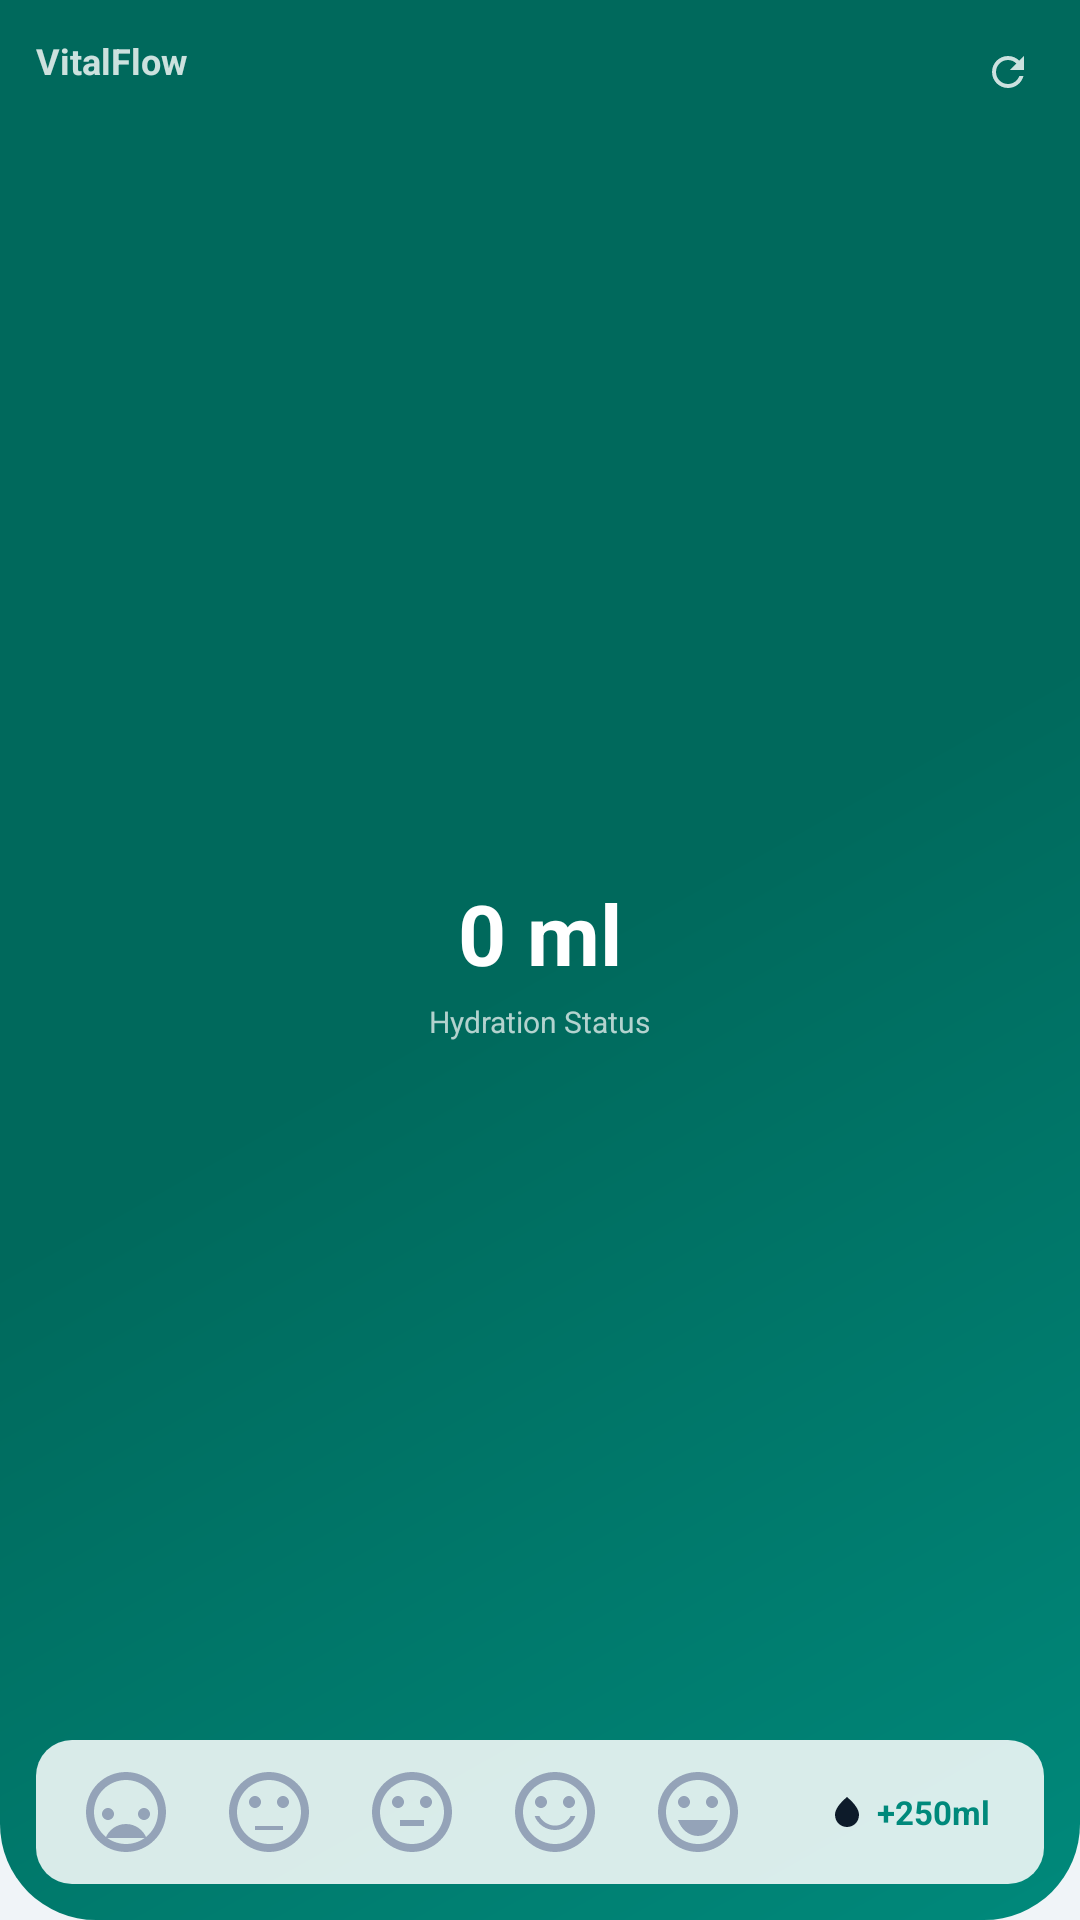

Locate icon controls on the screen. Image size 1080 x 1920, boxes as (x1, y1, x2, y2).
mood happy: (658, 1772, 738, 1852)
mood ok: (372, 1772, 452, 1852)
mood smile: (515, 1772, 595, 1852)
mood terrible: (86, 1772, 166, 1852)
Reset: (992, 56, 1024, 88)
water drop: (835, 1797, 859, 1827)
